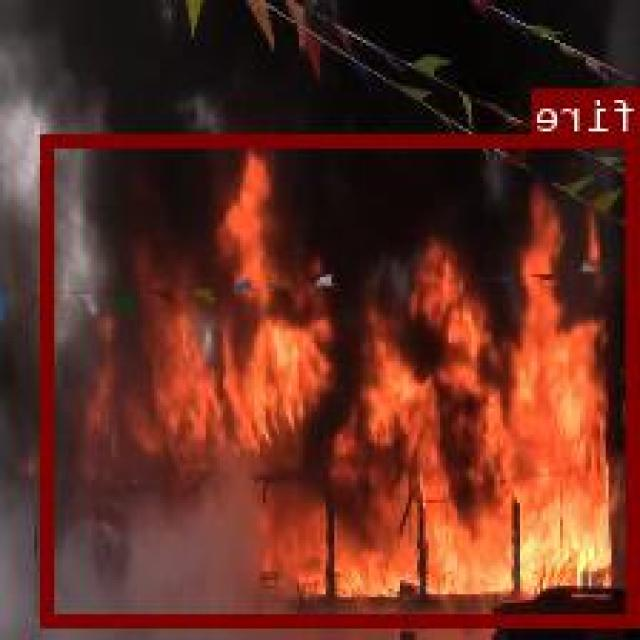fire: (46, 132, 640, 624)
